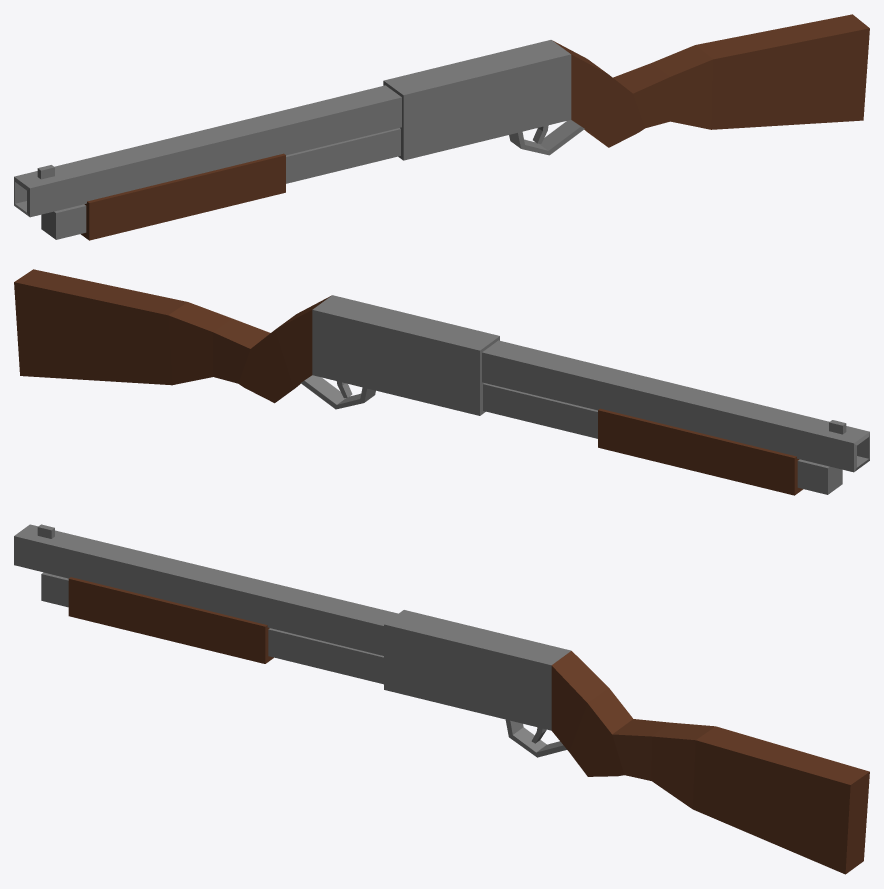
File: shotgun.fbx
The picture shows the model from 3 angles, top to bottom: view 1: azimuth 30°, elevation 25°; view 2: azimuth 150°, elevation 25°; view 3: azimuth 330°, elevation 25°; orthographic projection.
Parts seen in each view (by area): view 1: Cube.005; view 2: Cube.005; view 3: Cube.005.
Part boxes in pixels (bbox=[...]): Cube.005: bbox=[14, 14, 869, 240]; Cube.005: bbox=[14, 269, 869, 495]; Cube.005: bbox=[14, 524, 869, 874].
Size of the model in its own units: 201 by 32.75 by 8.81.
